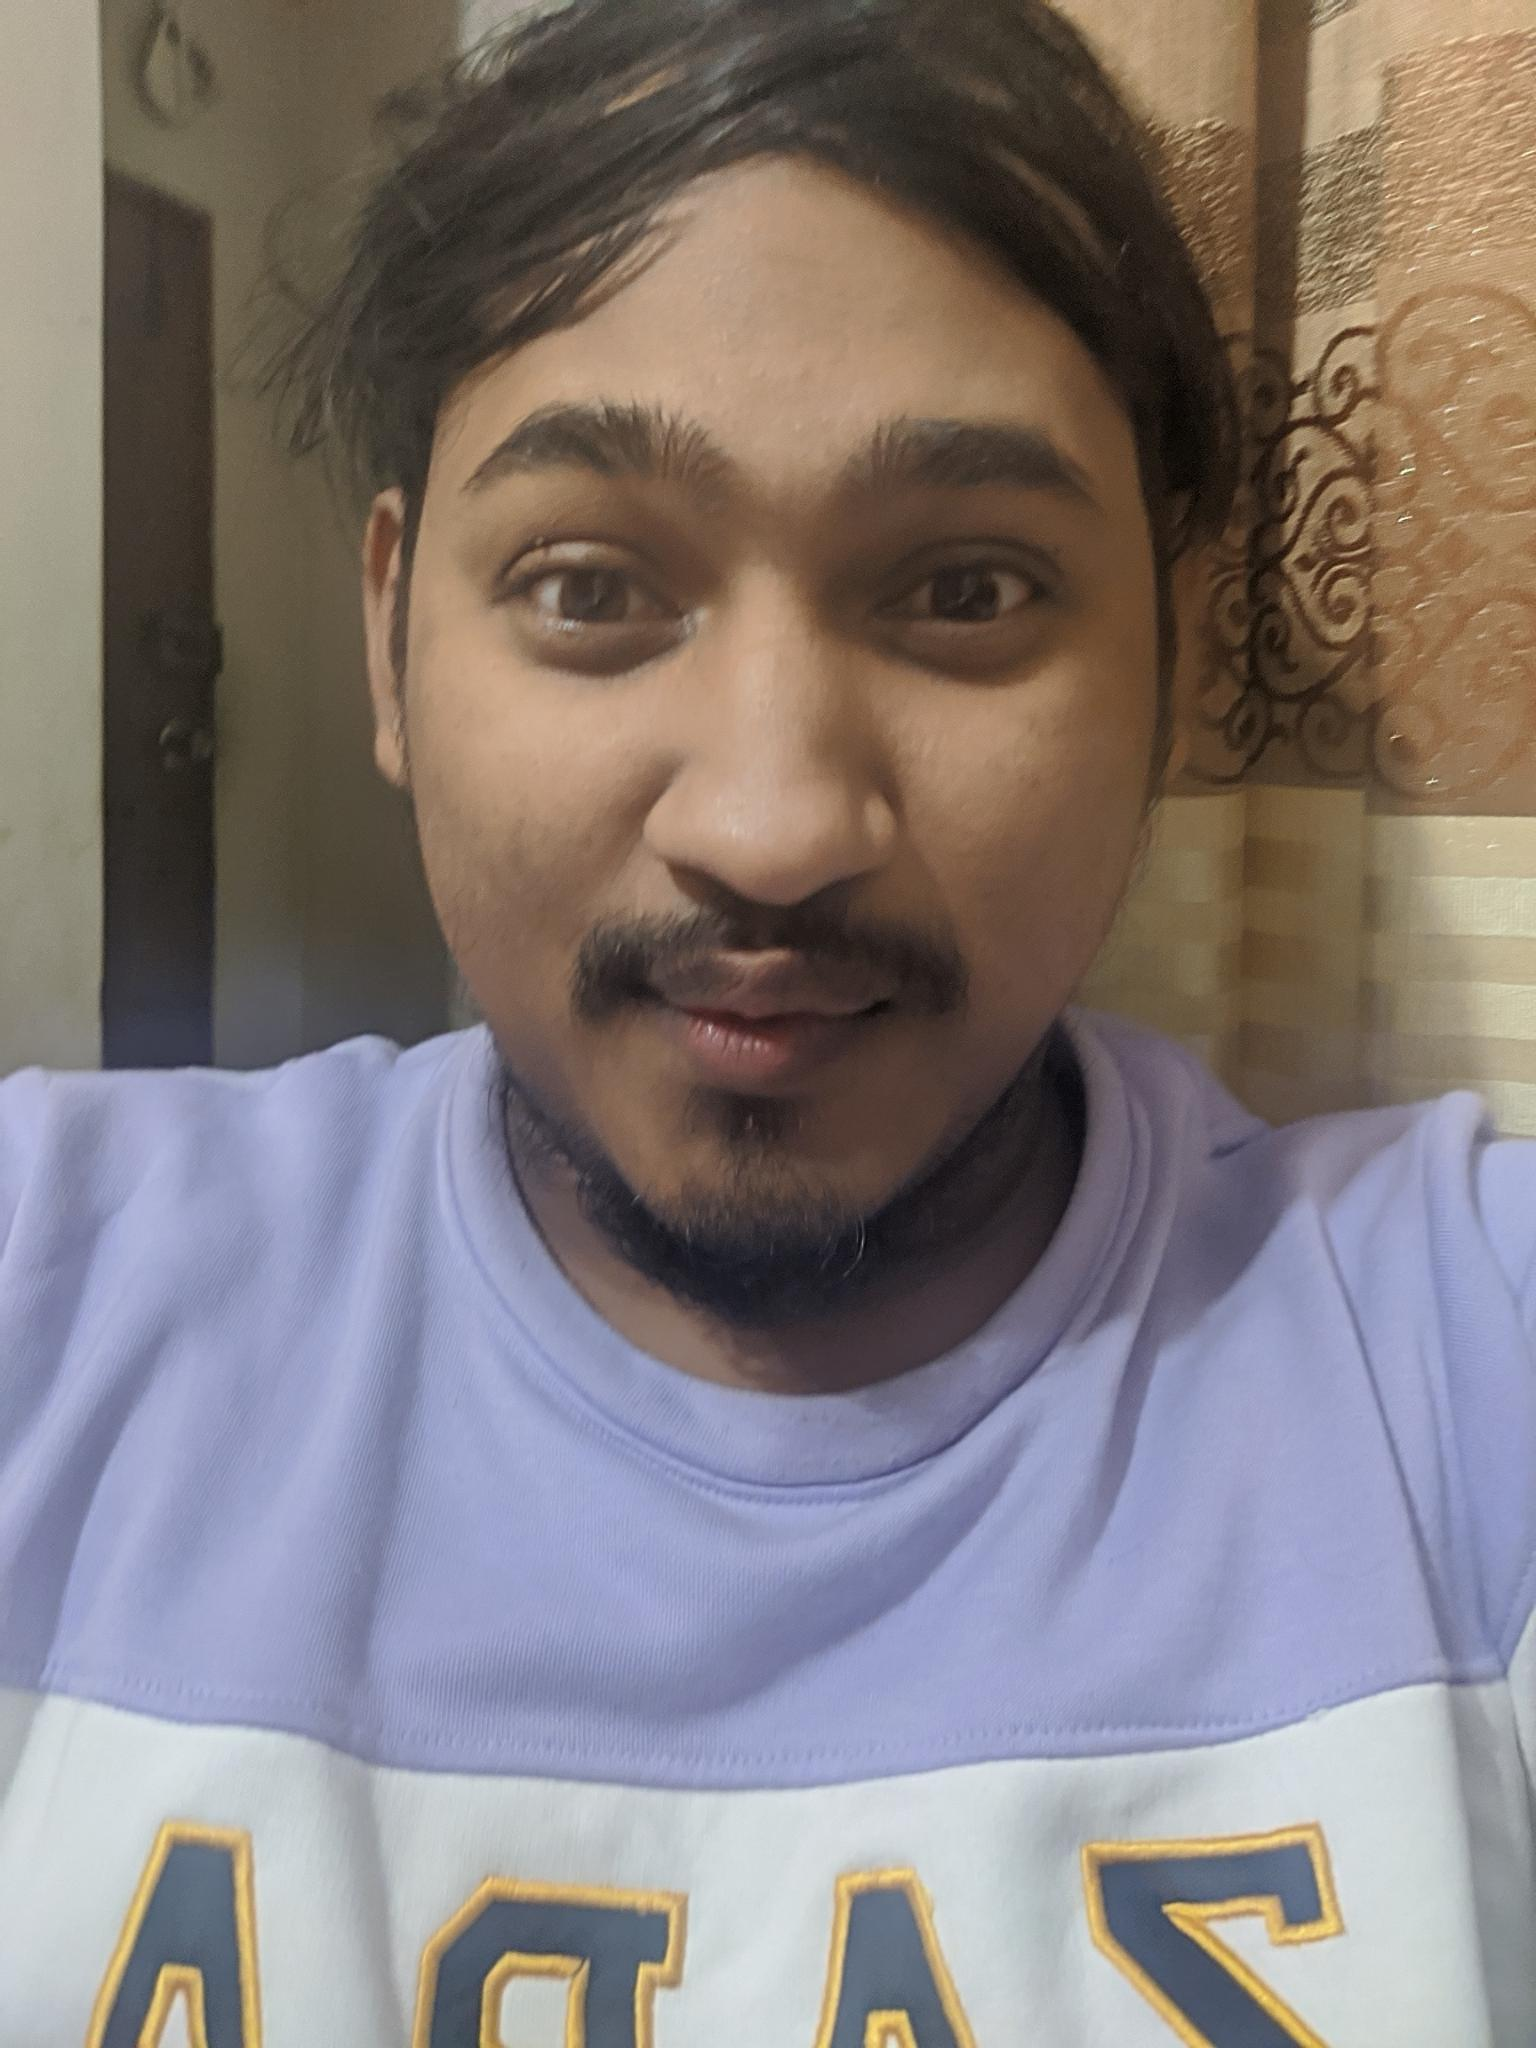Surprise: (382, 308, 1133, 1276)
